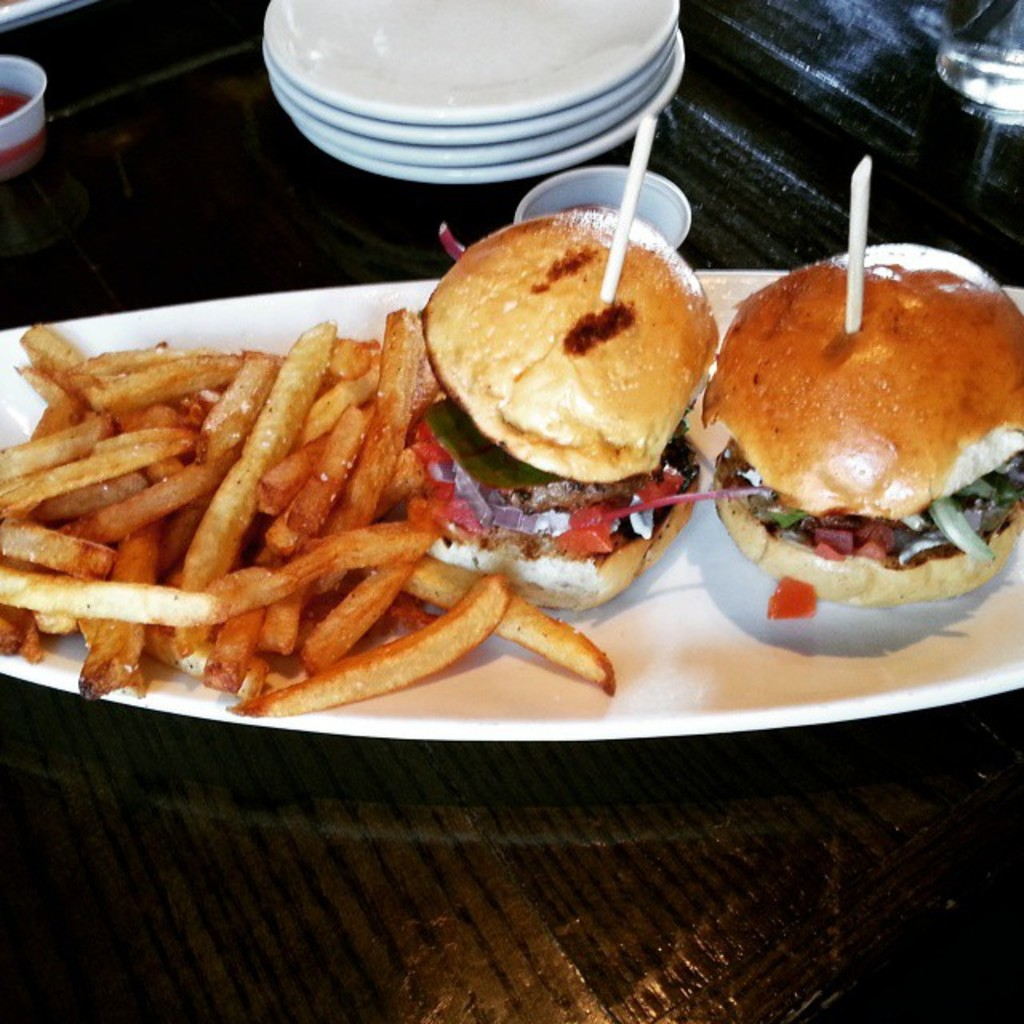French fries: (4, 286, 499, 702)
